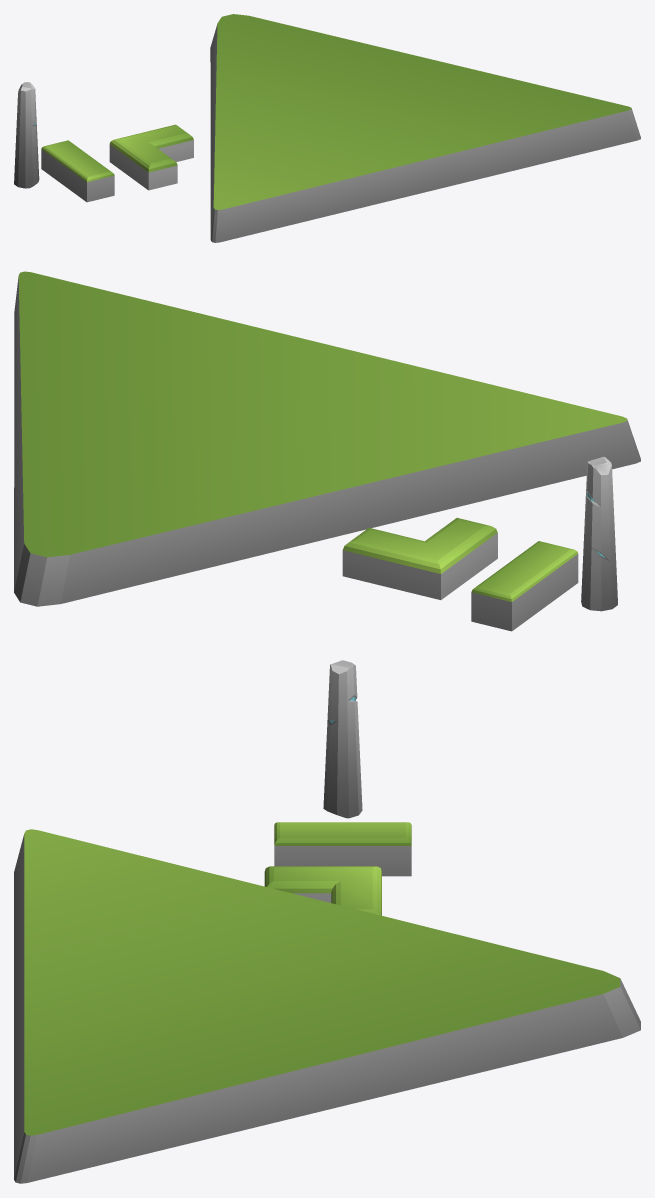
The model's file is Pulau Portal.fbx.
The picture shows the model from 3 angles, top to bottom: view 1: azimuth 30°, elevation 25°; view 2: azimuth 150°, elevation 25°; view 3: azimuth 270°, elevation 25°; orthographic projection. The views are drawn at different scales.
Parts seen in each view (by area): view 1: Segetiga, Siku, Panjang, Pilar; view 2: Segetiga, Siku, Panjang, Pilar; view 3: Segetiga, Panjang, Pilar, Siku.
Boxes of the visible parts, bbox=[...] form: Segetiga: bbox=[210, 14, 640, 242]; Siku: bbox=[109, 124, 193, 190]; Panjang: bbox=[41, 140, 114, 202]; Pilar: bbox=[14, 82, 39, 188]; Segetiga: bbox=[14, 271, 640, 606]; Siku: bbox=[342, 518, 497, 599]; Panjang: bbox=[471, 541, 578, 631]; Pilar: bbox=[581, 456, 617, 611]; Segetiga: bbox=[14, 829, 640, 1183]; Panjang: bbox=[274, 822, 411, 876]; Pilar: bbox=[323, 660, 362, 818]; Siku: bbox=[264, 866, 381, 915].
Bounding box in the file's own units: 4604 × 928 × 3201.
